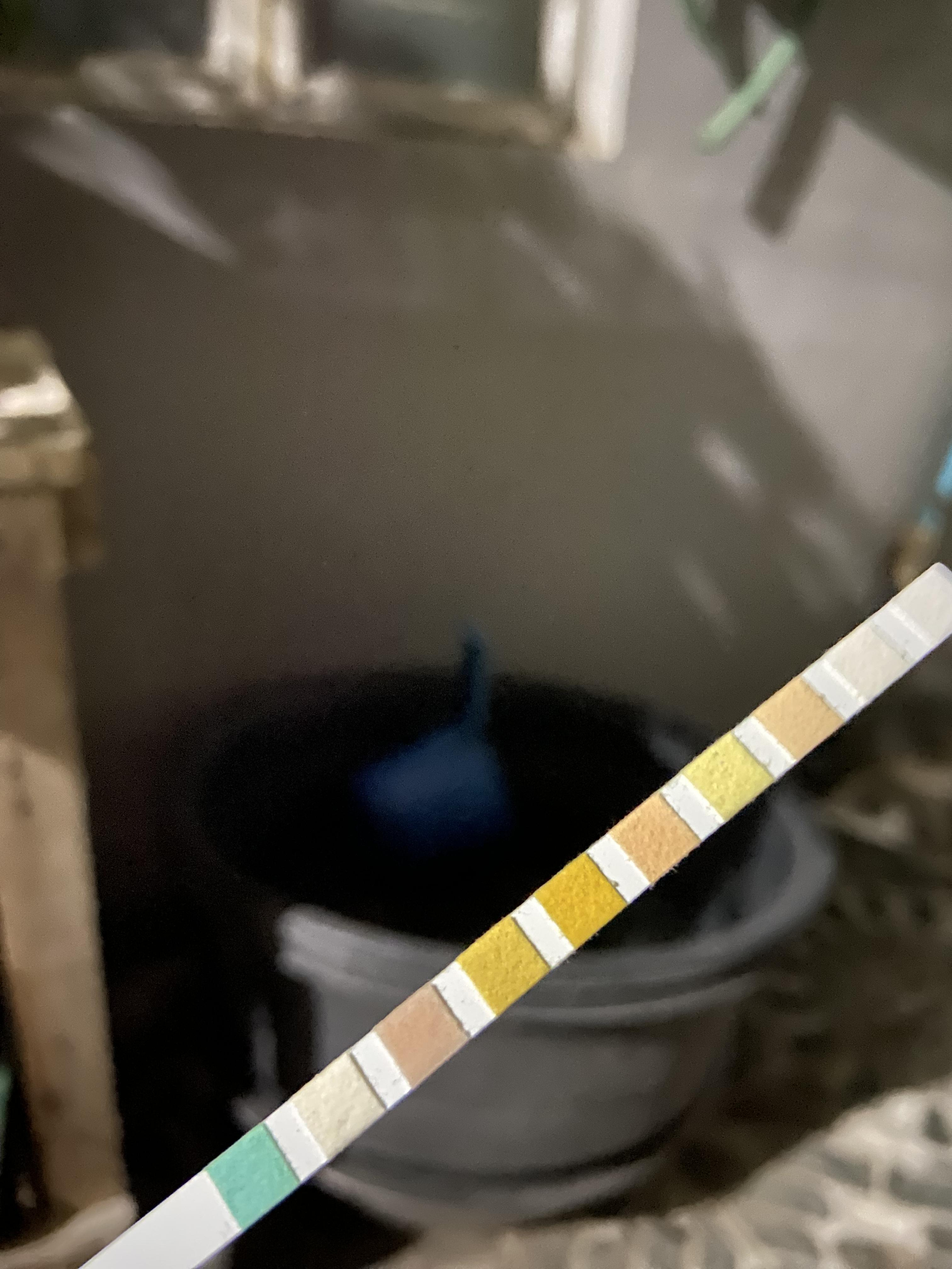Bilirubin: (311, 1080, 363, 1131)
Blood: (557, 873, 602, 927)
Glucose: (228, 1149, 279, 1202)
Ketone: (397, 1008, 446, 1061)
Leukocytes: (910, 586, 952, 618)
Nitrite: (844, 641, 885, 682)
Protein: (705, 749, 749, 799)
SpGravity: (478, 939, 528, 991)
Urobilinogen: (775, 695, 819, 738)
pH: (633, 811, 677, 861)
strip: (85, 561, 952, 1269)
